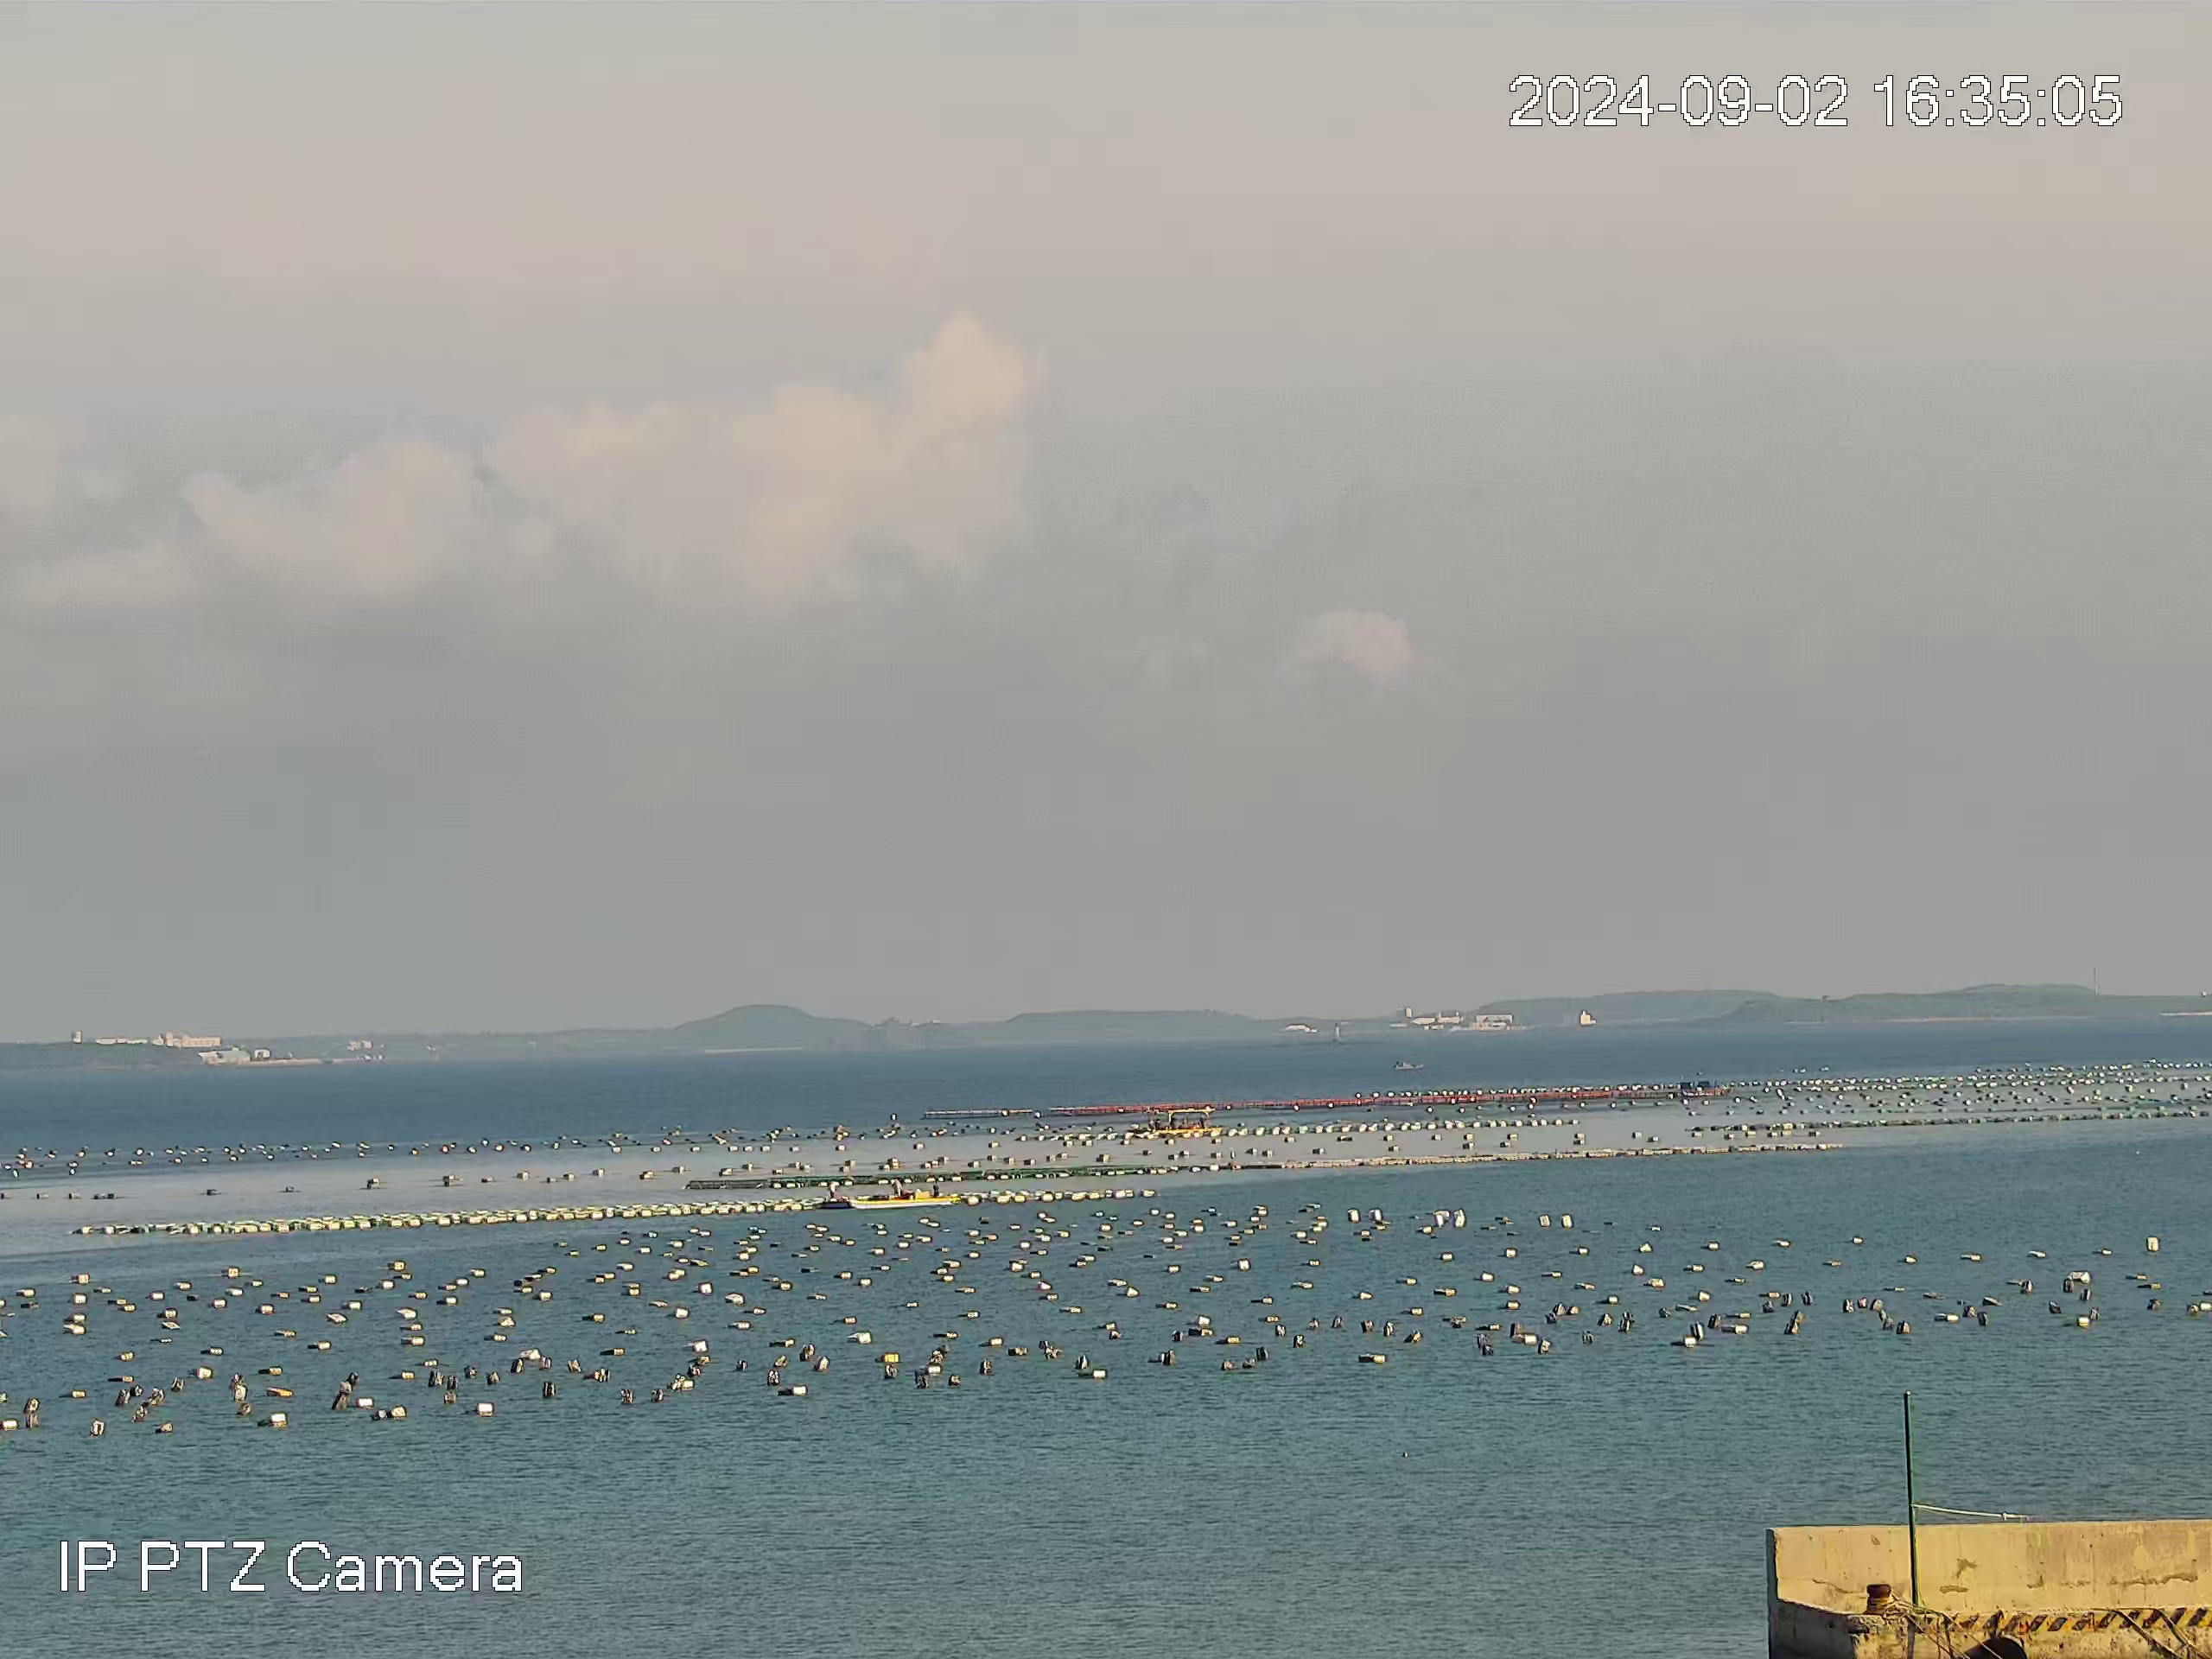boat: (841, 1178, 963, 1209), (1162, 1105, 1224, 1134), (1392, 1060, 1425, 1070)
